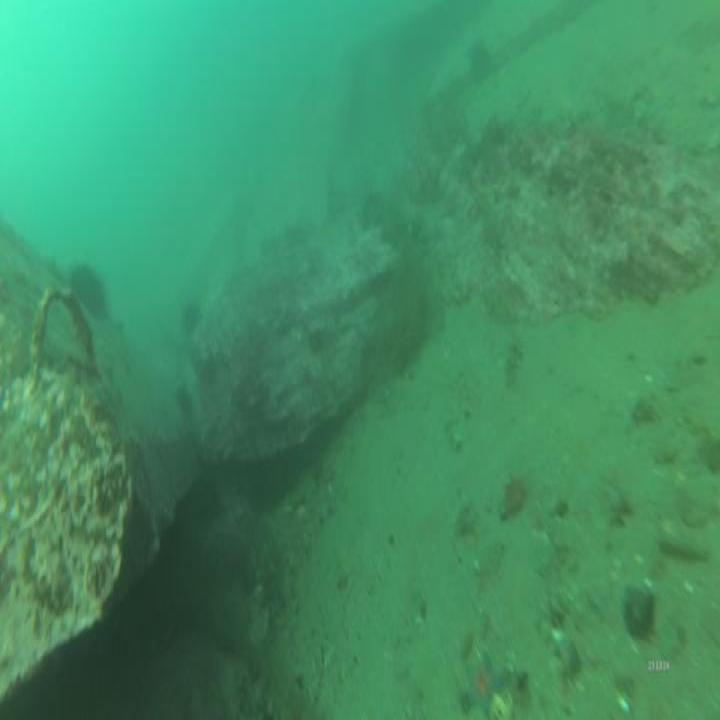echinus: (69, 254, 106, 329)
starfish: (463, 650, 508, 716), (465, 34, 495, 80)
